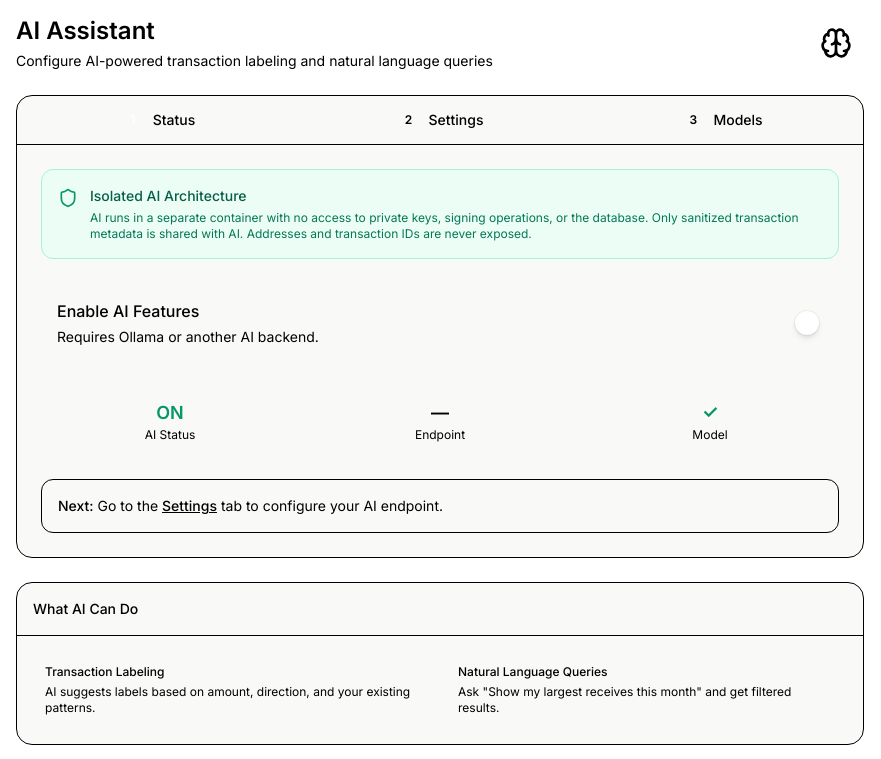
Scenario: AISettings › Ollama Detection › should show detect button
Expected: the heading "AI Assistant" is shown, [16, 16, 155, 45]
Click the button "2 Settings".
click(440, 120)  # box [299, 96, 581, 144]
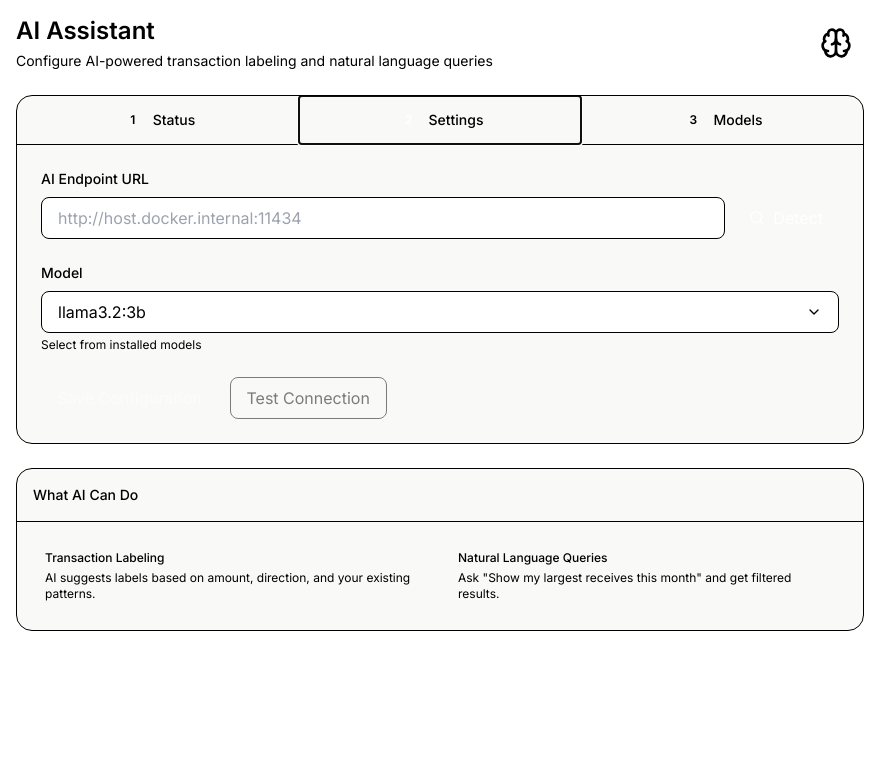
Expected: the text "AI Endpoint URL" is shown, [41, 170, 149, 187]
